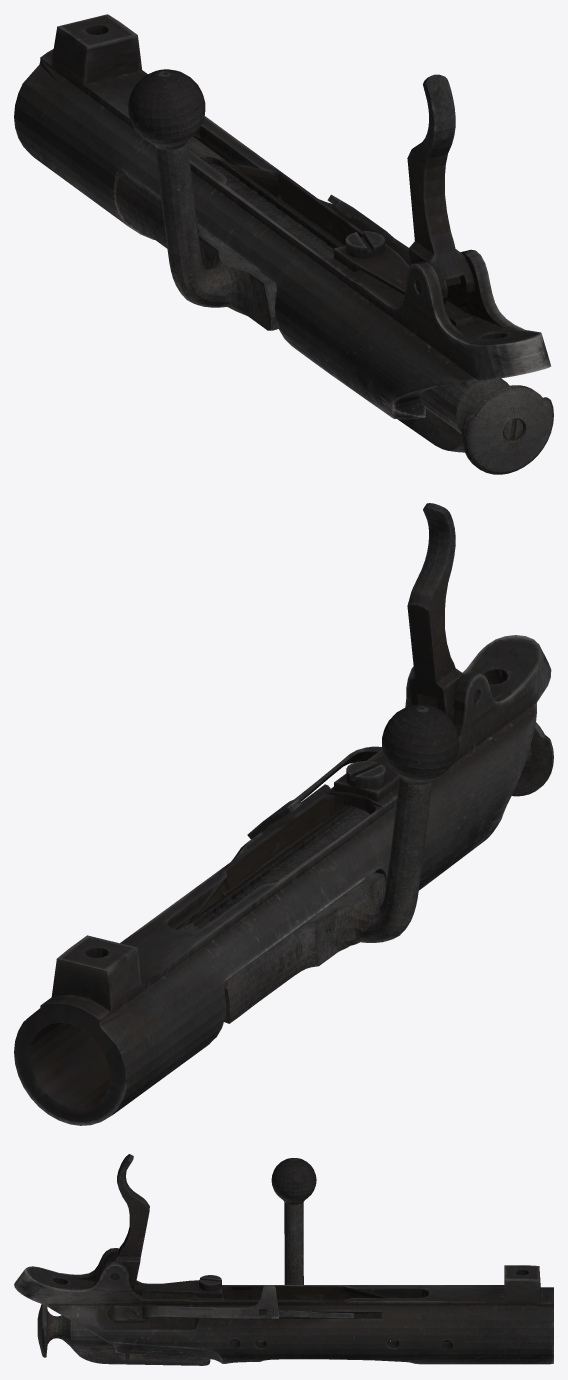
The picture shows the model from 3 angles, top to bottom: view 1: azimuth 30°, elevation 25°; view 2: azimuth 150°, elevation 25°; view 3: azimuth 270°, elevation 25°; orthographic projection. The views are drawn at different scales.
Parts seen in each view (by area): view 1: TW_5ae08f0a5acfc408fb1398a1_PZ_Import; view 2: TW_5ae08f0a5acfc408fb1398a1_PZ_Import; view 3: TW_5ae08f0a5acfc408fb1398a1_PZ_Import.
Boxes of the visible parts, <box> form: TW_5ae08f0a5acfc408fb1398a1_PZ_Import: <box>14,14,553,474</box>; TW_5ae08f0a5acfc408fb1398a1_PZ_Import: <box>14,503,553,1125</box>; TW_5ae08f0a5acfc408fb1398a1_PZ_Import: <box>14,1154,553,1365</box>.
Size of the model in its own units: 0.0358 by 0.1308 by 0.0555.
Materials: 1 (1 with a texture image).
